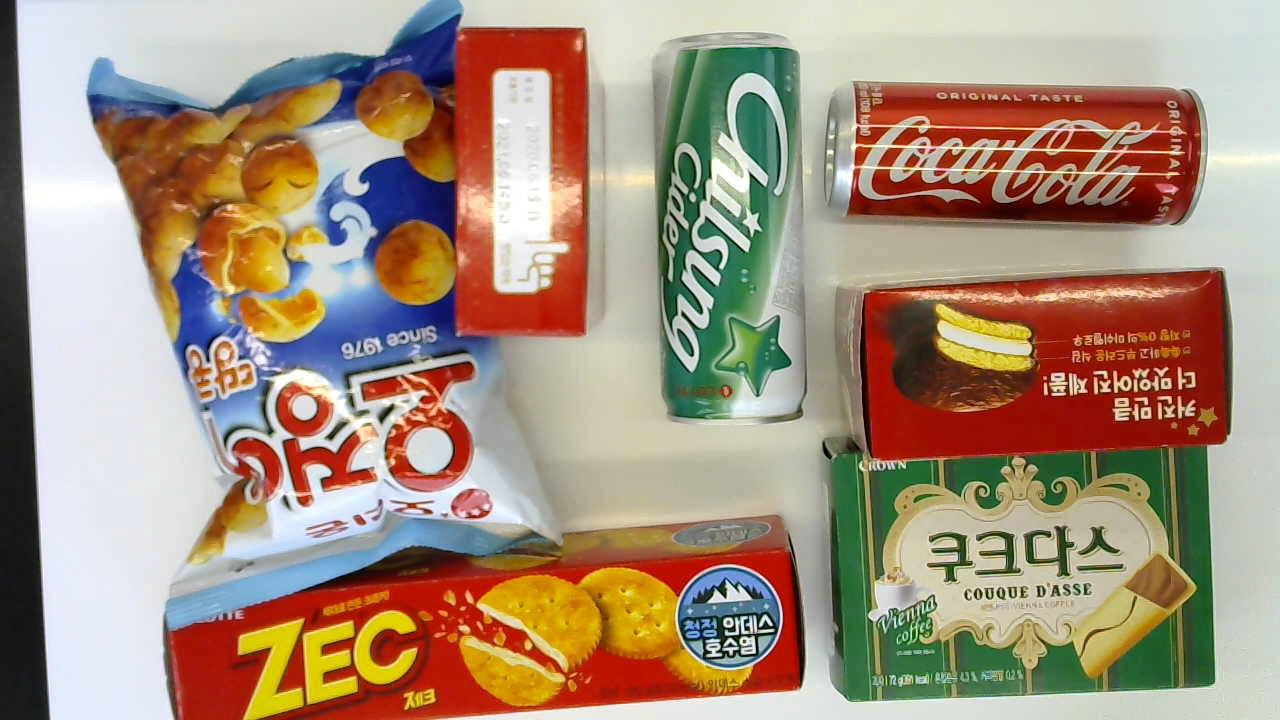cidar: (655, 31, 811, 422)
coke: (834, 263, 1234, 456), (823, 76, 1206, 228)
couque_coffee: (820, 431, 1217, 700)
couque_white: (455, 27, 605, 336)
squid_peanut: (87, 3, 561, 631)
zec: (163, 512, 807, 717)
